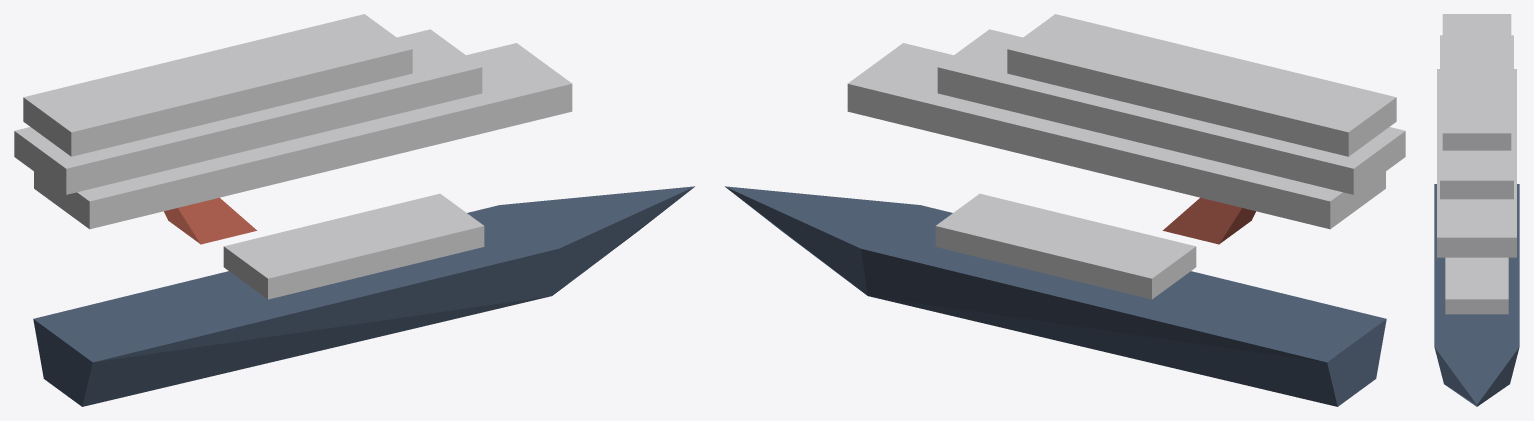
3 views of the same model, side by side, from view 1: azimuth 30°, elevation 25°; view 2: azimuth 150°, elevation 25°; view 3: azimuth 270°, elevation 25° (orthographic). The views are drawn at different scales.
Parts seen in each view (by area): view 1: part0, part3, part1, part2, part4, part5; view 2: part0, part3, part1, part2, part4, part5; view 3: part3, part0, part1, part2, part4.
Part boxes in pixels (x1,y1,x2,y2): part0: (33, 186, 694, 406); part3: (23, 14, 412, 156); part1: (34, 43, 572, 229); part2: (14, 29, 482, 194); part4: (223, 193, 484, 299); part5: (164, 197, 257, 244); part0: (725, 186, 1386, 406); part3: (1007, 14, 1396, 156); part1: (847, 43, 1385, 229); part2: (937, 29, 1405, 194); part4: (935, 193, 1196, 299); part5: (1162, 197, 1255, 244); part3: (1442, 14, 1511, 150); part0: (1434, 184, 1519, 406); part1: (1437, 69, 1516, 257); part2: (1440, 35, 1513, 199); part4: (1445, 257, 1508, 314).
Bounding box in the file's own units: 3.94 × 1.62 × 0.62.
